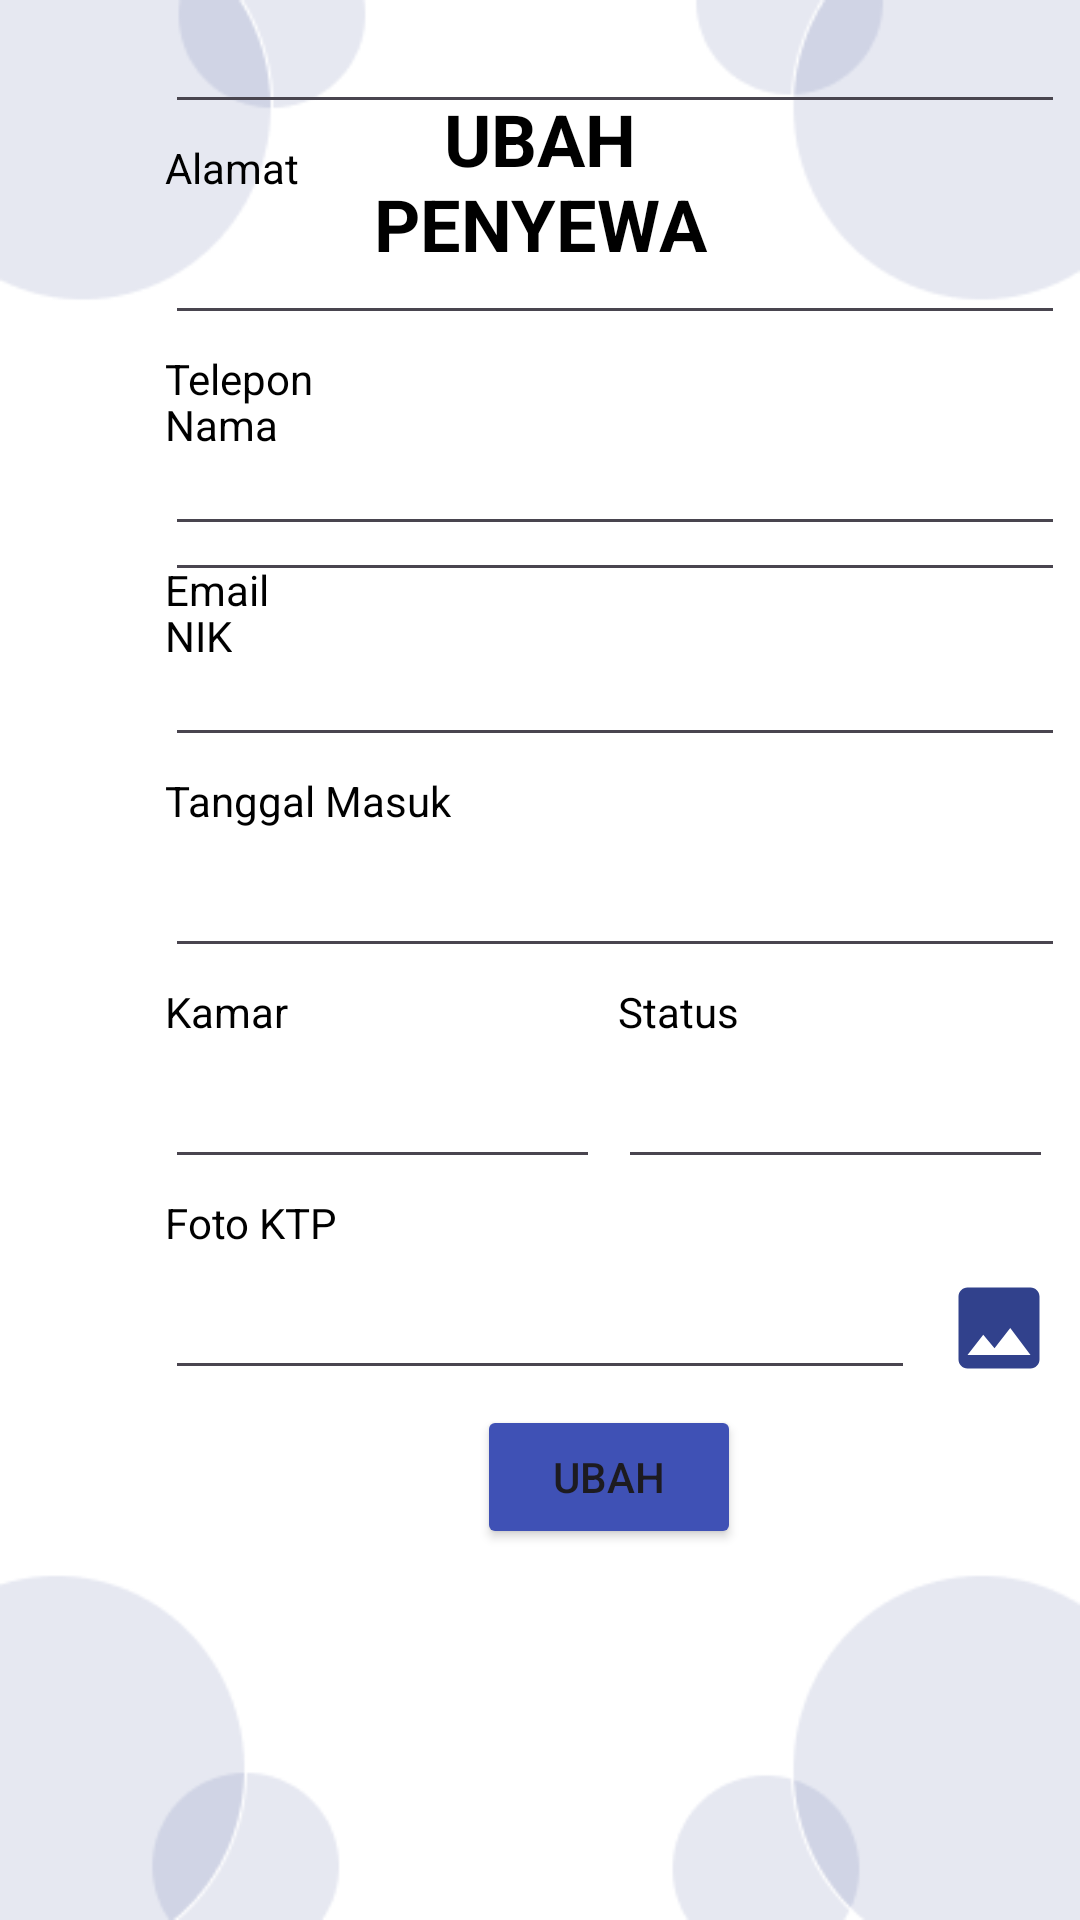

Where to tap for icons on this 1080*1920 app screen, as point (x, y):
gambar: point (999, 1328)
